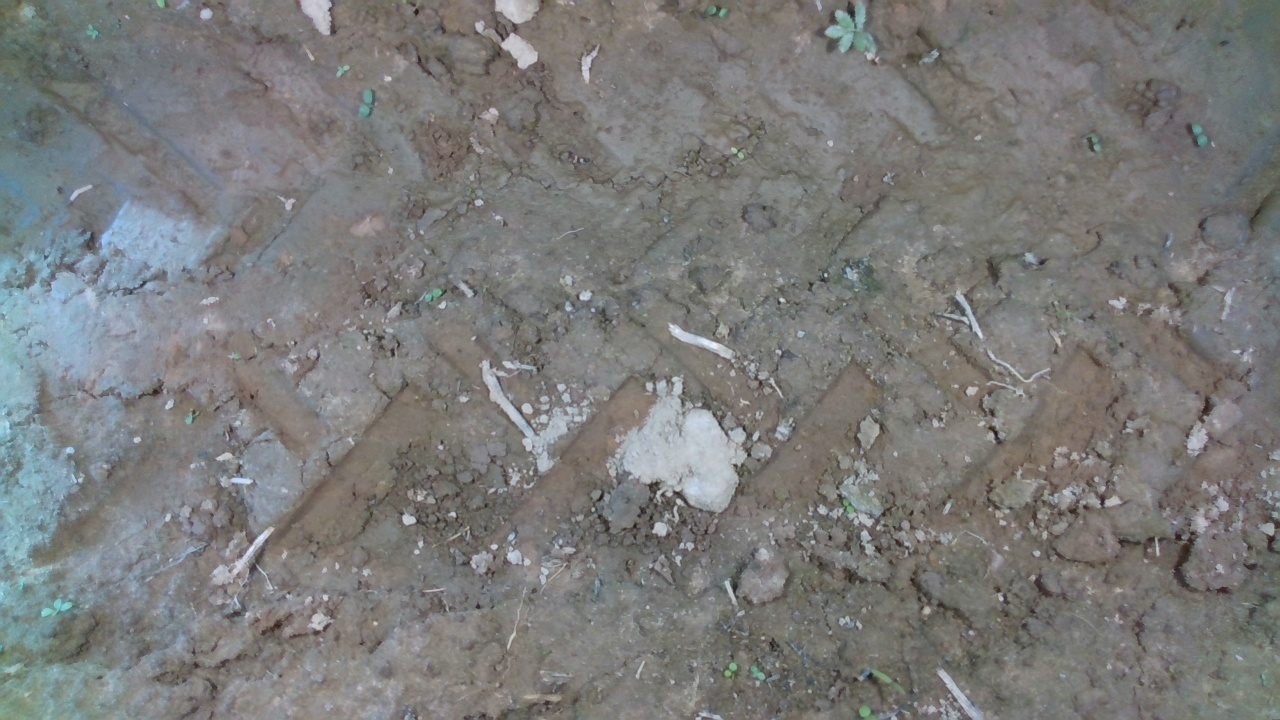weed: (38, 594, 75, 620), (1189, 121, 1209, 149), (356, 87, 374, 118), (422, 287, 443, 305), (334, 62, 354, 80), (749, 664, 766, 681), (1089, 132, 1102, 153), (84, 24, 100, 40), (729, 145, 746, 160), (723, 660, 737, 678), (842, 496, 854, 516)
